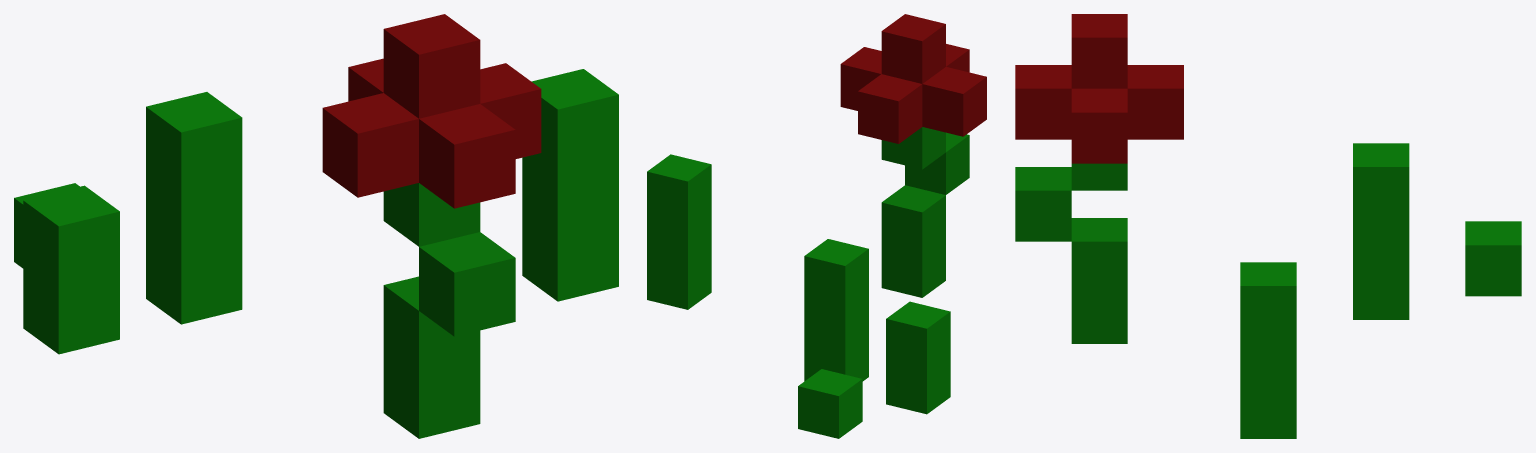
File: flower1.obj
The picture shows the model from 3 angles, left to right: view 1: azimuth 30°, elevation 25°; view 2: azimuth 150°, elevation 25°; view 3: azimuth 270°, elevation 25°; orthographic projection. The views are drawn at different scales.
Size of the model in its own units: 0.8 by 0.6 by 0.9.
Materials: 1 (1 with a texture image).
